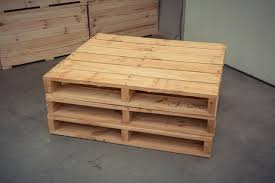pallet: (33, 29, 231, 165)
